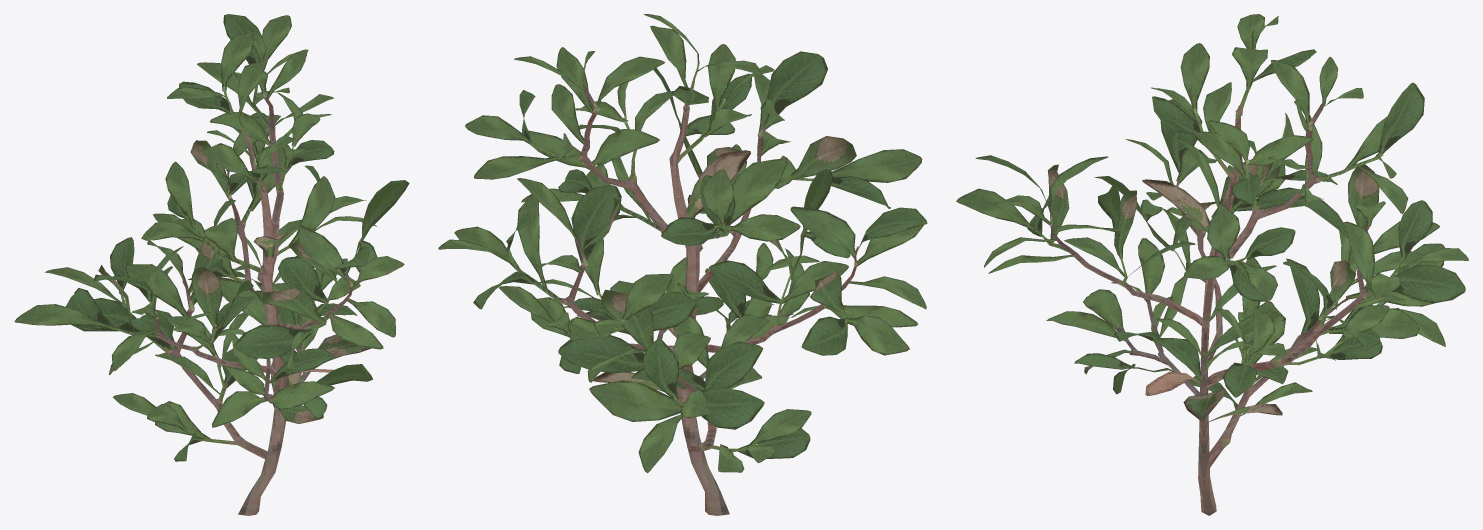
The model's file is rooted-berries-weathered-depleted.glb.
3 views of the same model, side by side, from view 1: azimuth 30°, elevation 25°; view 2: azimuth 150°, elevation 25°; view 3: azimuth 270°, elevation 25° (orthographic). The views are drawn at different scales.
Visible parts, largest first — view 1: rooted-berries-weathered-depleted runtime mesh; view 2: rooted-berries-weathered-depleted runtime mesh; view 3: rooted-berries-weathered-depleted runtime mesh.
Boxes of the visible parts, x1,y1,x2,y2 form: rooted-berries-weathered-depleted runtime mesh: (14, 14, 409, 515); rooted-berries-weathered-depleted runtime mesh: (438, 14, 927, 515); rooted-berries-weathered-depleted runtime mesh: (956, 14, 1468, 515).
Size of the model in its own units: 0.8663 by 1.05 by 0.9674.
1 material, 1 textured.
